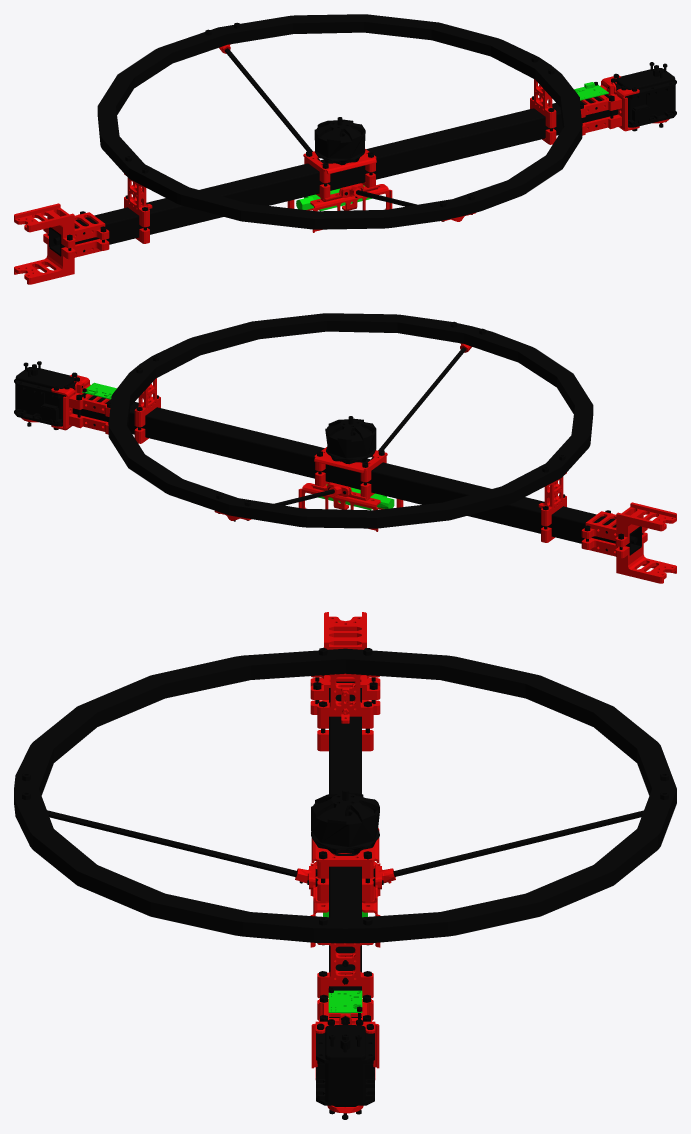
Rendered from general_link.dae.
3 views of the same model, one above another, from view 1: azimuth 30°, elevation 25°; view 2: azimuth 150°, elevation 25°; view 3: azimuth 270°, elevation 25° (orthographic). The views are drawn at different scales.
Parts seen in each view (by area): view 1: General_Link_Black_Part, General_Link_Red_Part, General_Link_Green_Part; view 2: General_Link_Black_Part, General_Link_Red_Part, General_Link_Green_Part; view 3: General_Link_Black_Part, General_Link_Red_Part, General_Link_Green_Part.
Boxes of the visible parts, x1=… form: General_Link_Black_Part: x1=47, y1=14, x2=676, y2=256; General_Link_Red_Part: x1=14, y1=44, x2=669, y2=284; General_Link_Green_Part: x1=296, y1=82, x2=608, y2=211; General_Link_Black_Part: x1=14, y1=313, x2=643, y2=555; General_Link_Red_Part: x1=21, y1=343, x2=676, y2=583; General_Link_Green_Part: x1=82, y1=382, x2=394, y2=510; General_Link_Black_Part: x1=14, y1=647, x2=676, y2=1119; General_Link_Red_Part: x1=295, y1=612, x2=395, y2=1113; General_Link_Green_Part: x1=323, y1=911, x2=367, y2=1015.
Size of the model in its own units: 0.6145 by 0.4 by 0.0912.
